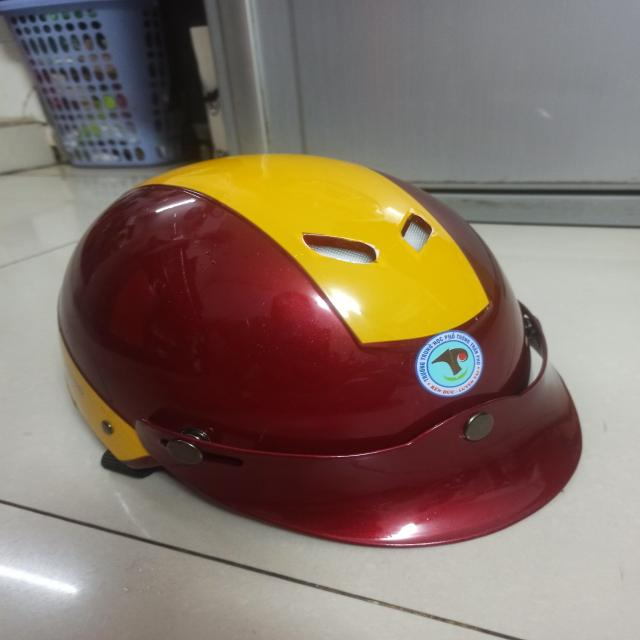Helmet: (52, 149, 587, 551)
